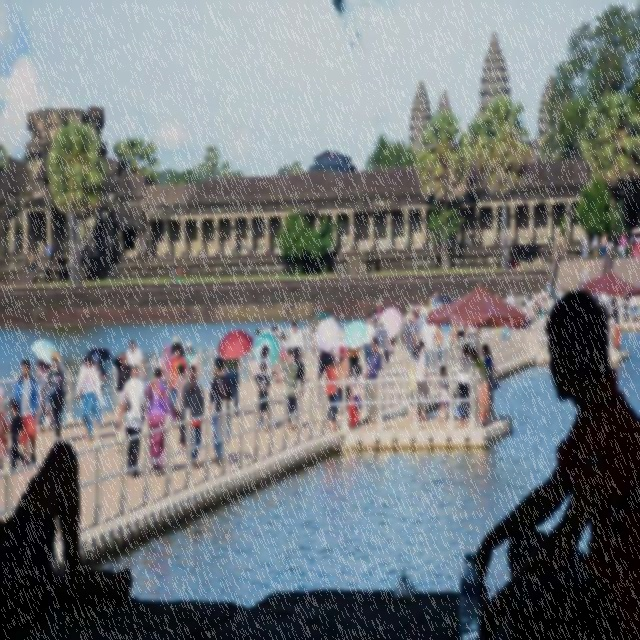pessoa: (463, 281, 640, 639), (116, 362, 148, 479), (142, 366, 174, 478), (178, 363, 206, 471), (12, 355, 38, 468), (75, 349, 106, 443), (209, 356, 234, 468), (41, 348, 68, 448), (336, 341, 364, 417), (520, 280, 564, 327), (278, 349, 298, 432), (166, 342, 186, 424), (6, 396, 27, 474), (34, 354, 54, 434), (111, 352, 132, 428), (366, 336, 384, 424), (456, 339, 473, 427), (90, 350, 108, 430), (320, 353, 338, 432), (412, 338, 428, 424), (174, 362, 188, 454), (222, 357, 242, 420), (448, 320, 476, 363), (208, 364, 220, 464), (157, 344, 173, 418), (255, 360, 272, 425), (400, 310, 418, 370), (481, 342, 495, 418), (406, 347, 420, 422), (124, 338, 145, 381), (326, 358, 339, 426), (0, 384, 9, 482), (271, 324, 286, 382), (436, 363, 449, 424), (314, 344, 326, 408), (292, 344, 306, 396), (288, 318, 306, 358), (590, 231, 614, 259), (470, 347, 488, 382), (184, 338, 198, 380), (406, 300, 424, 332), (255, 344, 272, 376), (364, 298, 382, 328), (380, 334, 396, 367), (276, 344, 292, 376), (168, 332, 186, 359), (493, 286, 515, 308), (362, 238, 376, 272), (619, 288, 632, 323), (426, 288, 444, 313), (78, 238, 98, 260), (434, 322, 442, 368), (396, 312, 404, 351), (503, 250, 517, 272), (617, 230, 627, 260), (461, 230, 476, 250), (54, 240, 66, 264), (610, 296, 620, 324), (593, 294, 607, 314), (44, 241, 54, 266), (580, 232, 589, 258), (628, 230, 636, 259), (581, 260, 589, 286), (168, 264, 176, 290), (27, 246, 36, 268), (446, 232, 454, 254), (232, 238, 240, 258), (348, 240, 358, 255), (634, 232, 640, 256), (326, 345, 334, 363), (269, 240, 277, 258), (490, 235, 500, 248), (401, 238, 410, 252), (616, 244, 624, 259), (384, 238, 392, 252), (250, 357, 255, 377), (176, 263, 183, 277), (253, 326, 260, 339), (250, 238, 255, 256), (221, 364, 227, 377)
